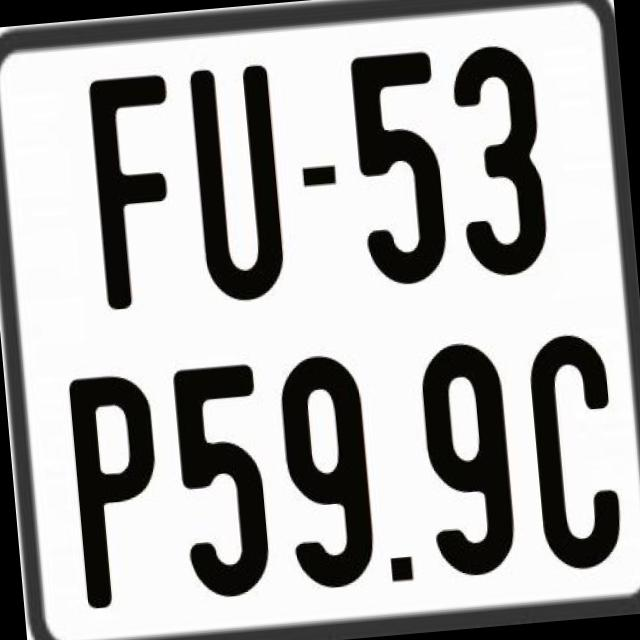3: (447, 40, 554, 276)
5: (349, 48, 457, 286), (168, 359, 274, 598)
9: (413, 335, 519, 577), (273, 352, 377, 592)
C: (522, 327, 626, 572)
F: (86, 68, 188, 306)
P: (66, 372, 170, 617)
U: (186, 65, 287, 303)
